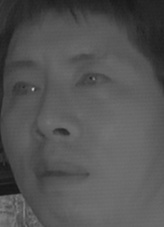eye: (72, 67, 113, 94), (9, 78, 42, 101)
mouth: (31, 156, 91, 190)
